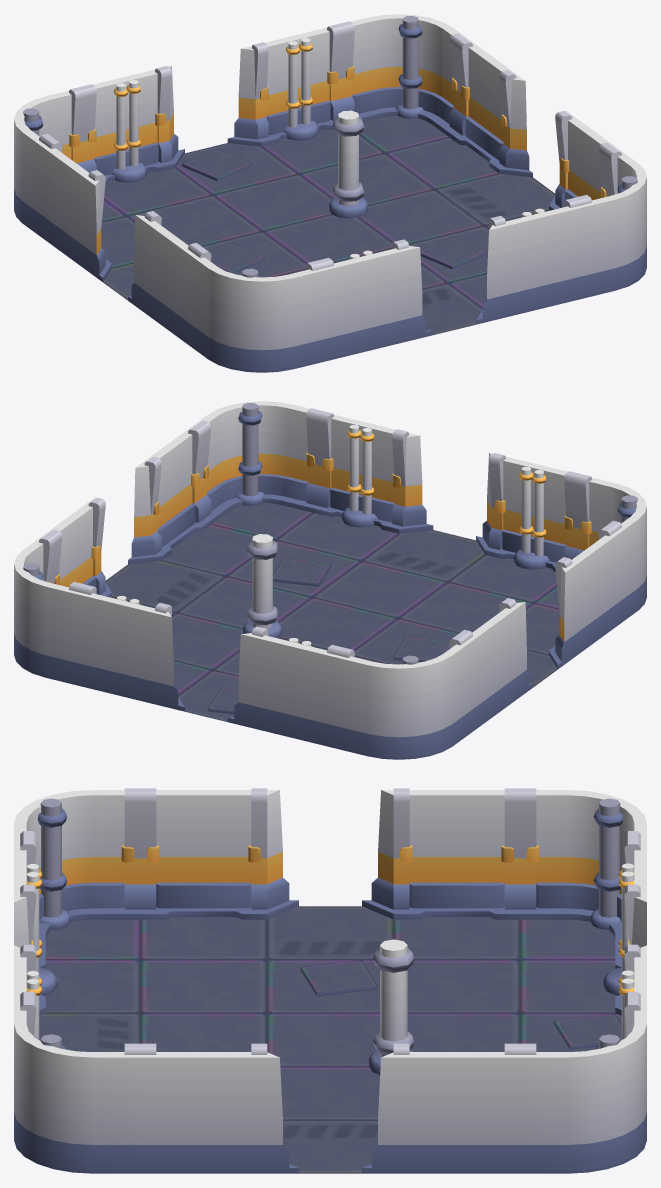
File: room-large.glb
3 views of the same model, one above another, from view 1: azimuth 30°, elevation 25°; view 2: azimuth 150°, elevation 25°; view 3: azimuth 270°, elevation 25° (orthographic). The views are drawn at different scales.
Parts seen in each view (by area): view 1: room-large; view 2: room-large; view 3: room-large.
Part boxes in pixels (left/top/right/bottom): room-large: left=14, top=14, right=646, bottom=372; room-large: left=14, top=401, right=646, bottom=759; room-large: left=14, top=788, right=646, bottom=1173.
Bounding box in the file's own units: 20 × 4.25 × 20.
Materials: 1 (1 with a texture image).
